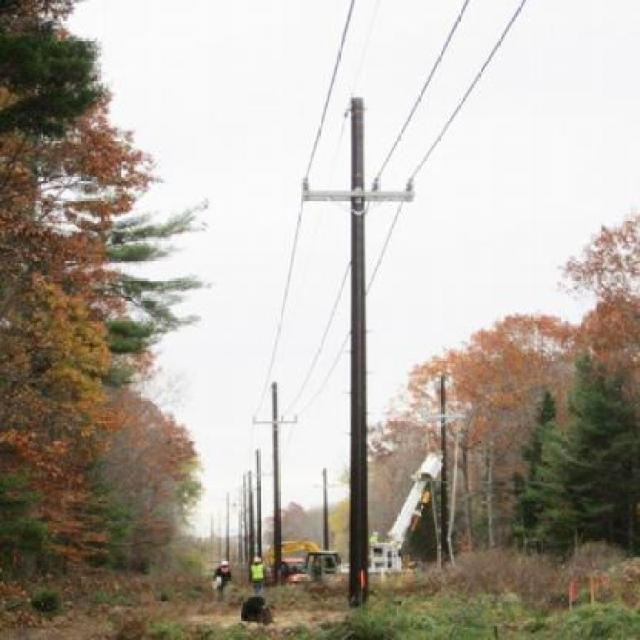pole: (294, 81, 423, 602), (250, 365, 299, 572)
